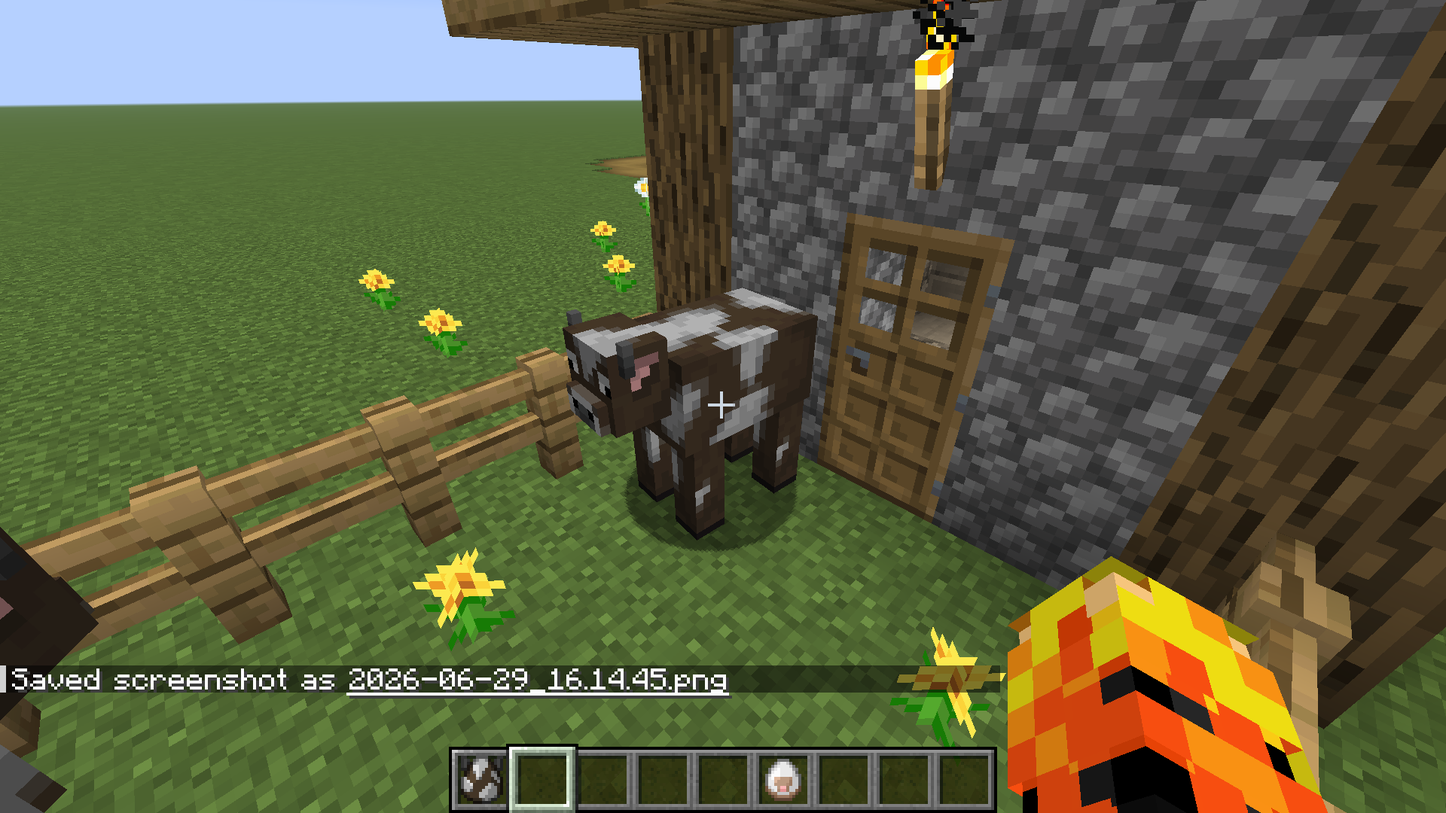Torch: (898, 0, 977, 205)
cablestone: (937, 377, 1197, 589), (1050, 20, 1285, 224), (732, 27, 889, 206), (1027, 240, 1213, 390)
cow: (562, 287, 819, 536)
